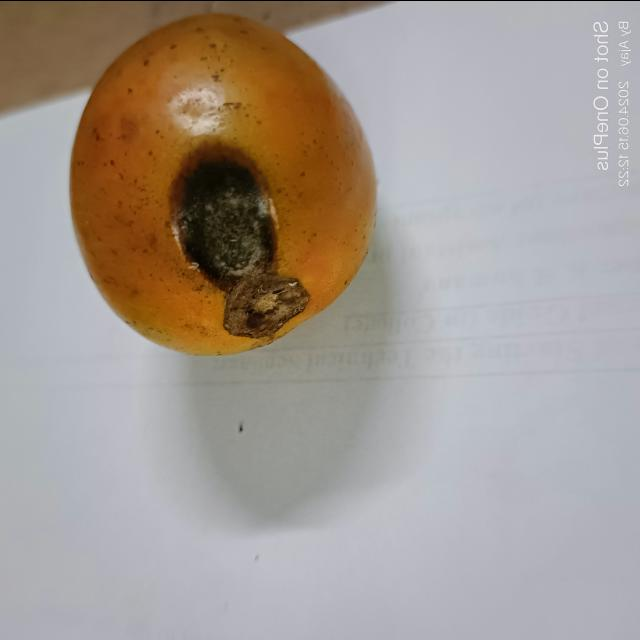Anthrocnose: (170, 146, 310, 342)
